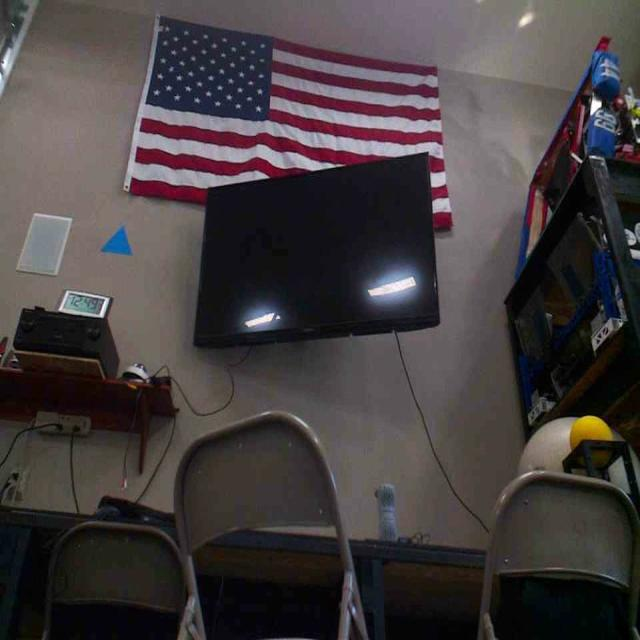triangle_blue: (99, 223, 133, 256)
